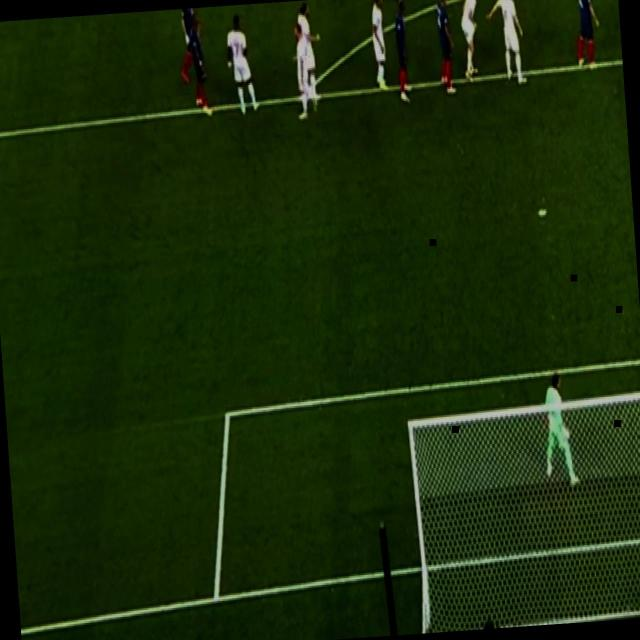player-white: (538, 369, 584, 494), (222, 11, 264, 119), (482, 0, 529, 91), (294, 0, 326, 107), (186, 13, 214, 119), (457, 0, 487, 90), (431, 0, 458, 96), (288, 24, 314, 122), (569, 0, 602, 74), (367, 0, 392, 96), (391, 0, 414, 104), (175, 8, 203, 86), (370, 0, 399, 2)
